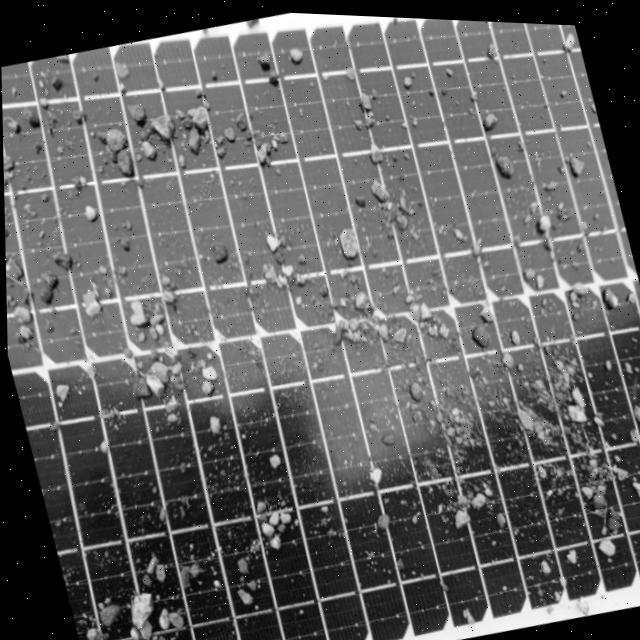Surface Contaminant: (1, 10, 640, 640)
